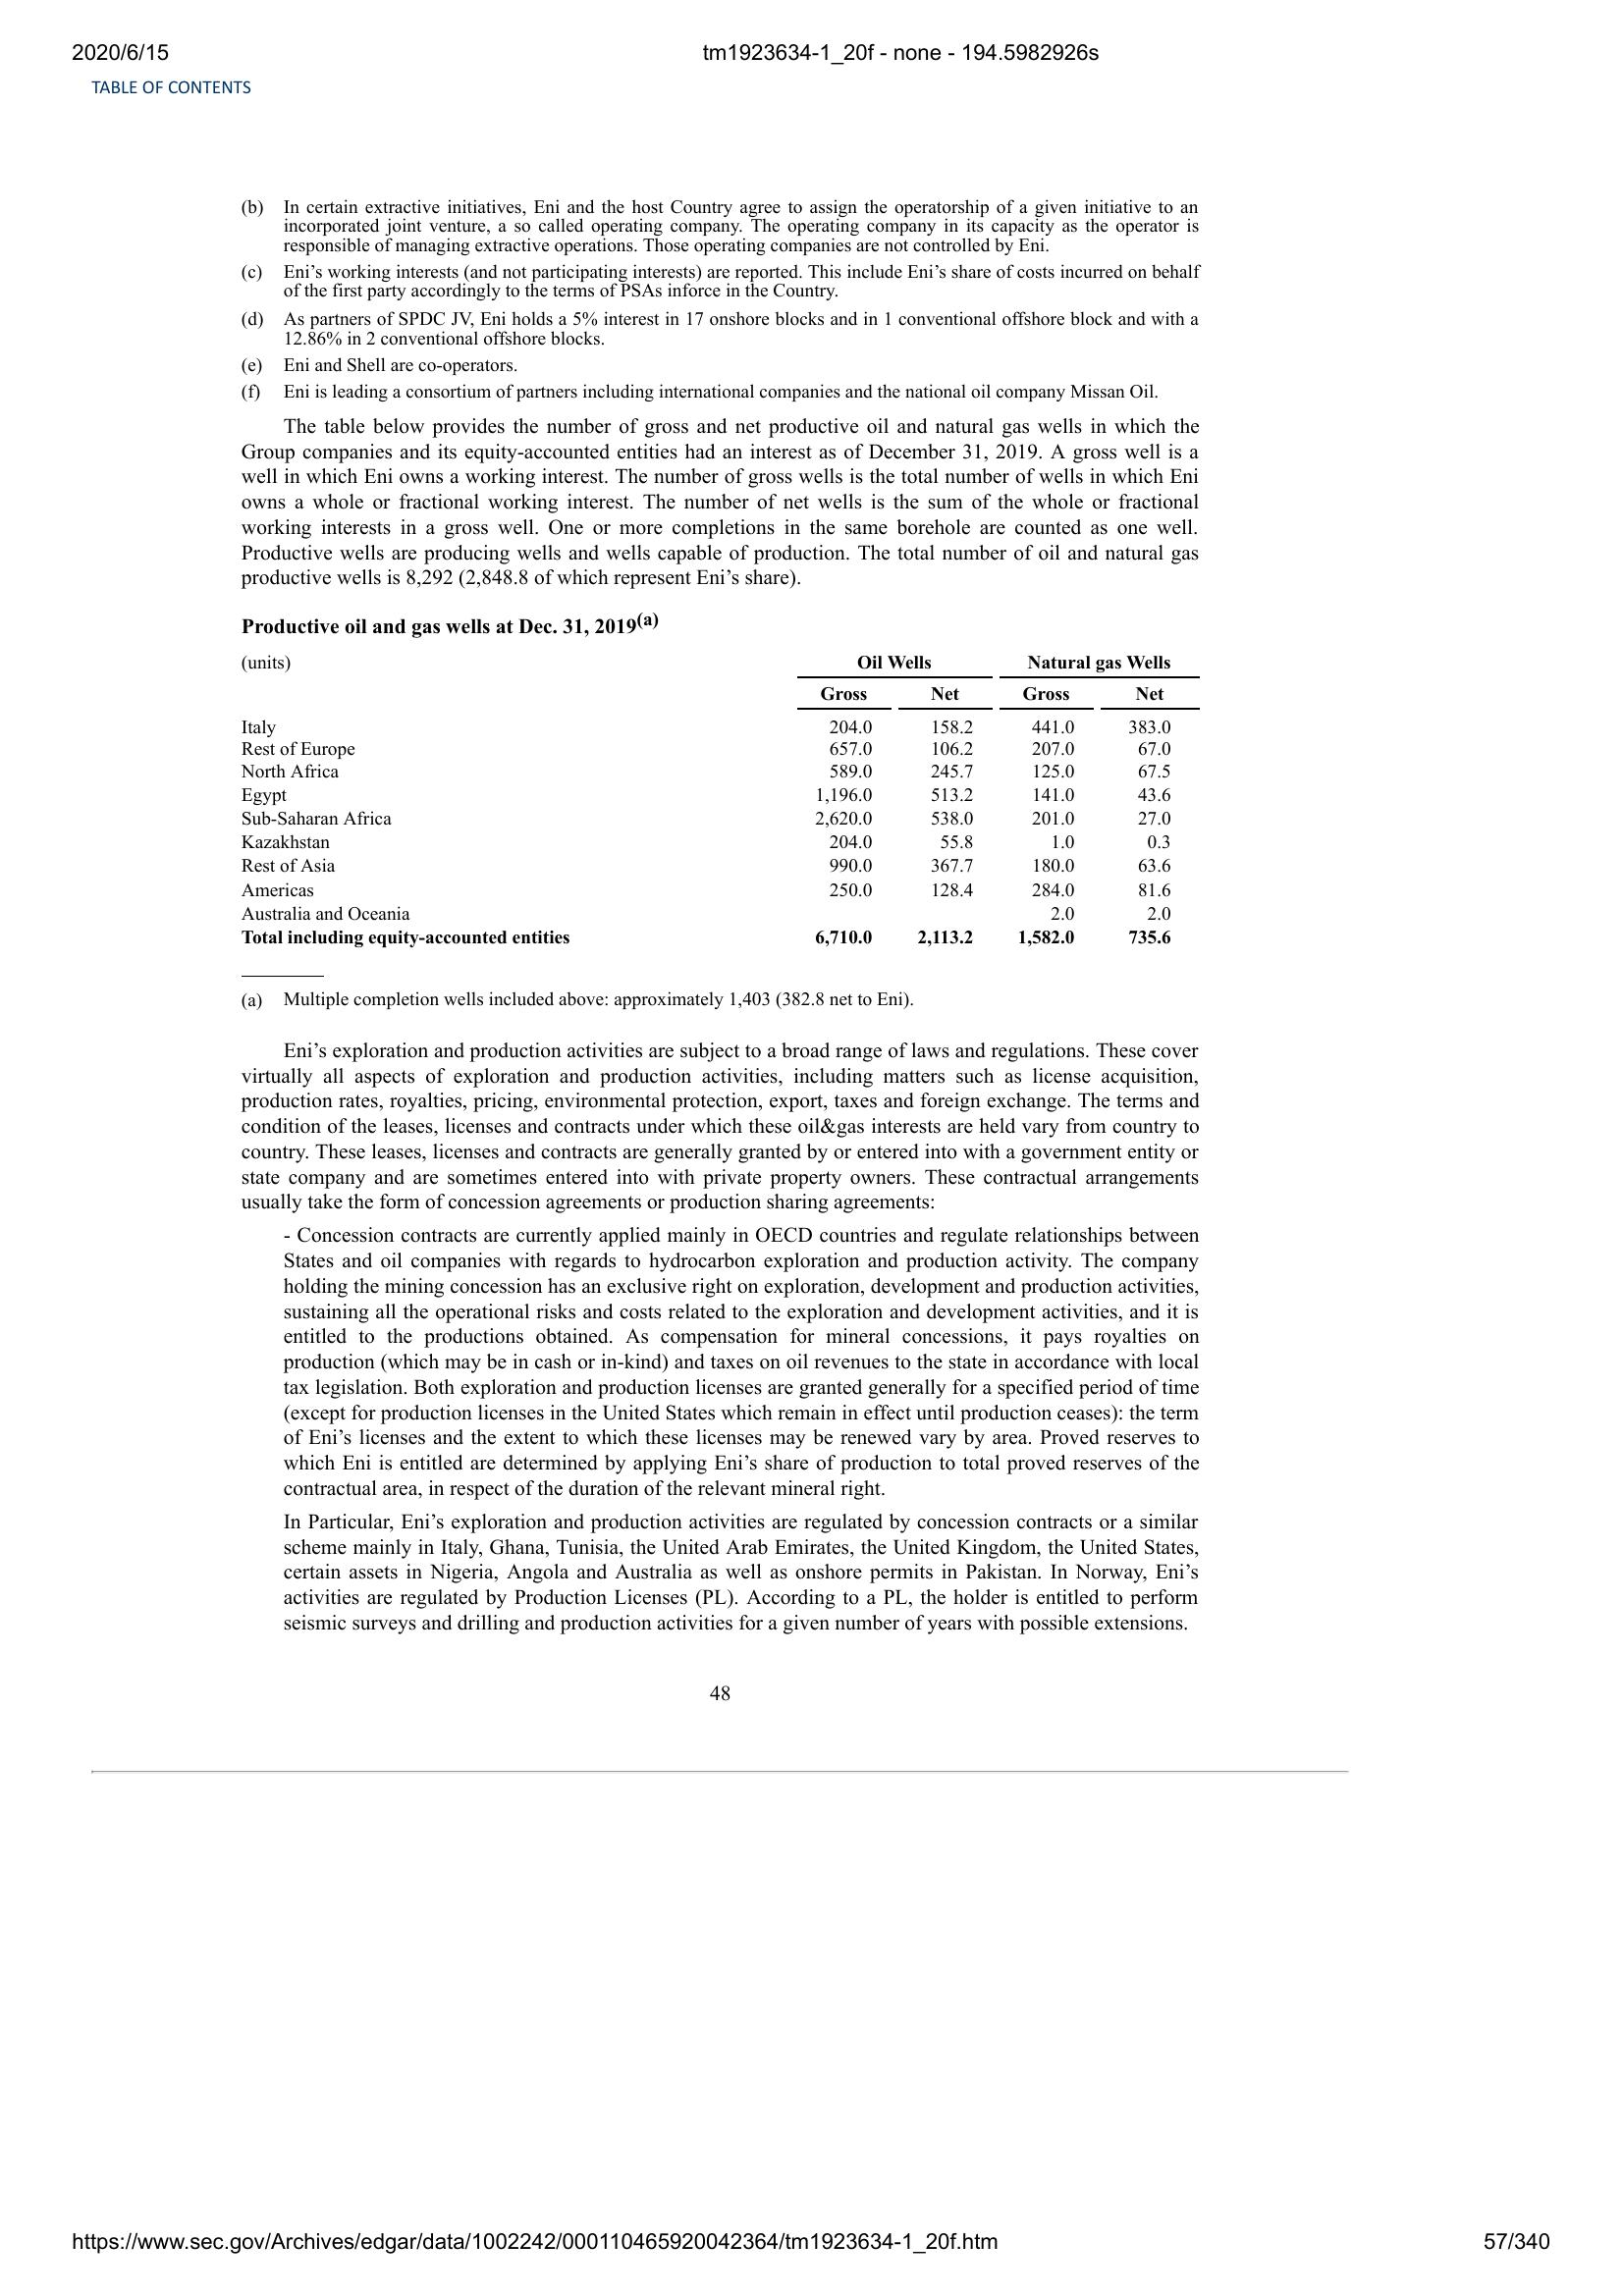table: (237, 644, 1203, 964)
